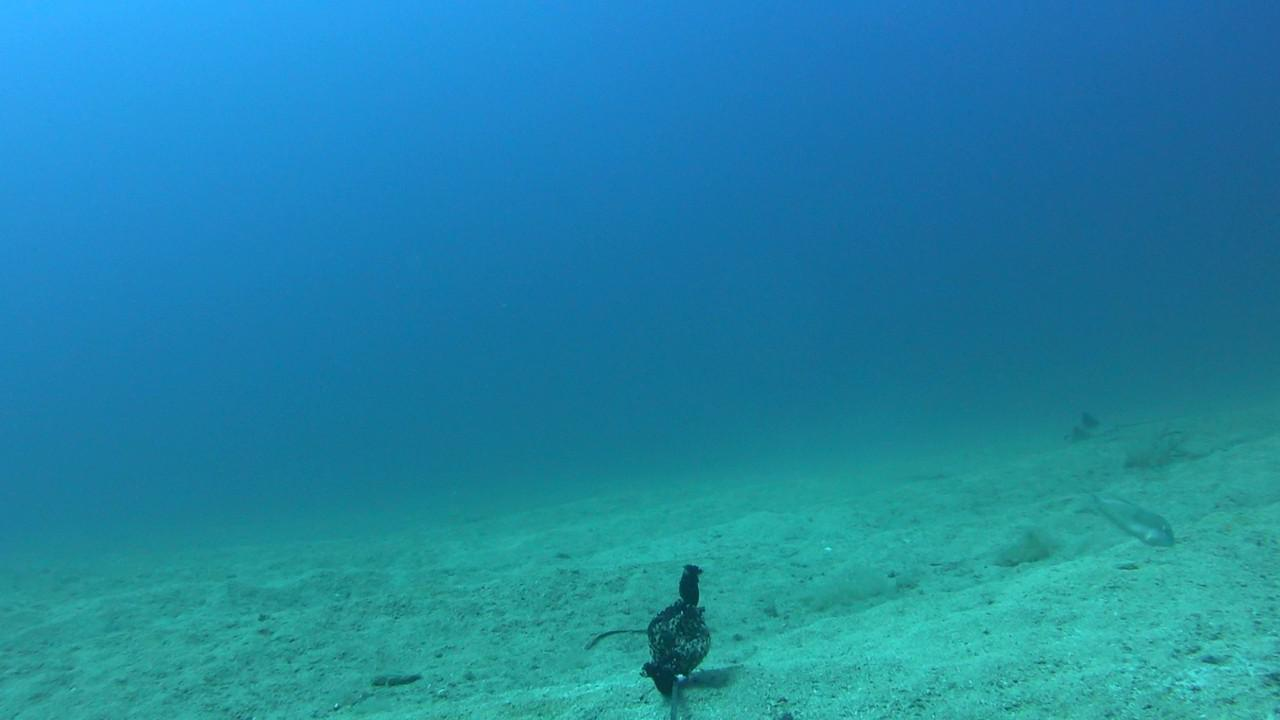myliobatis: (1056, 396, 1187, 452)
raor: (1079, 494, 1178, 556)
